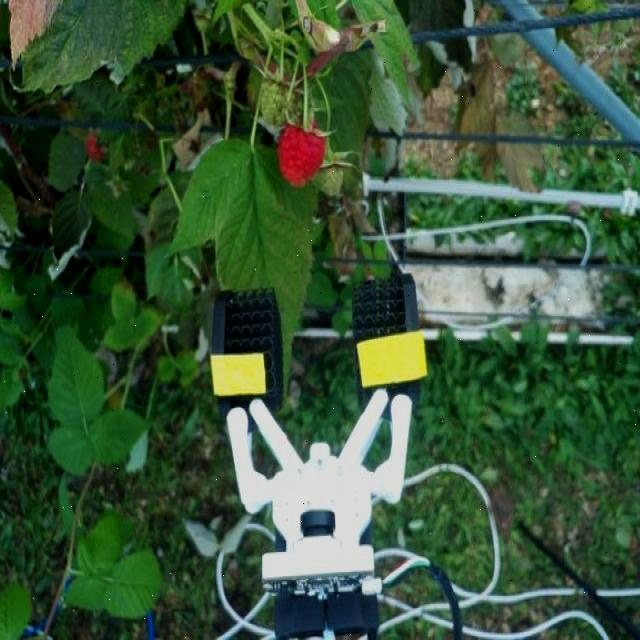Riped berries: (274, 118, 327, 186), (84, 130, 113, 160)
